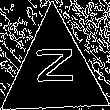N_W: (30, 51, 77, 93)
